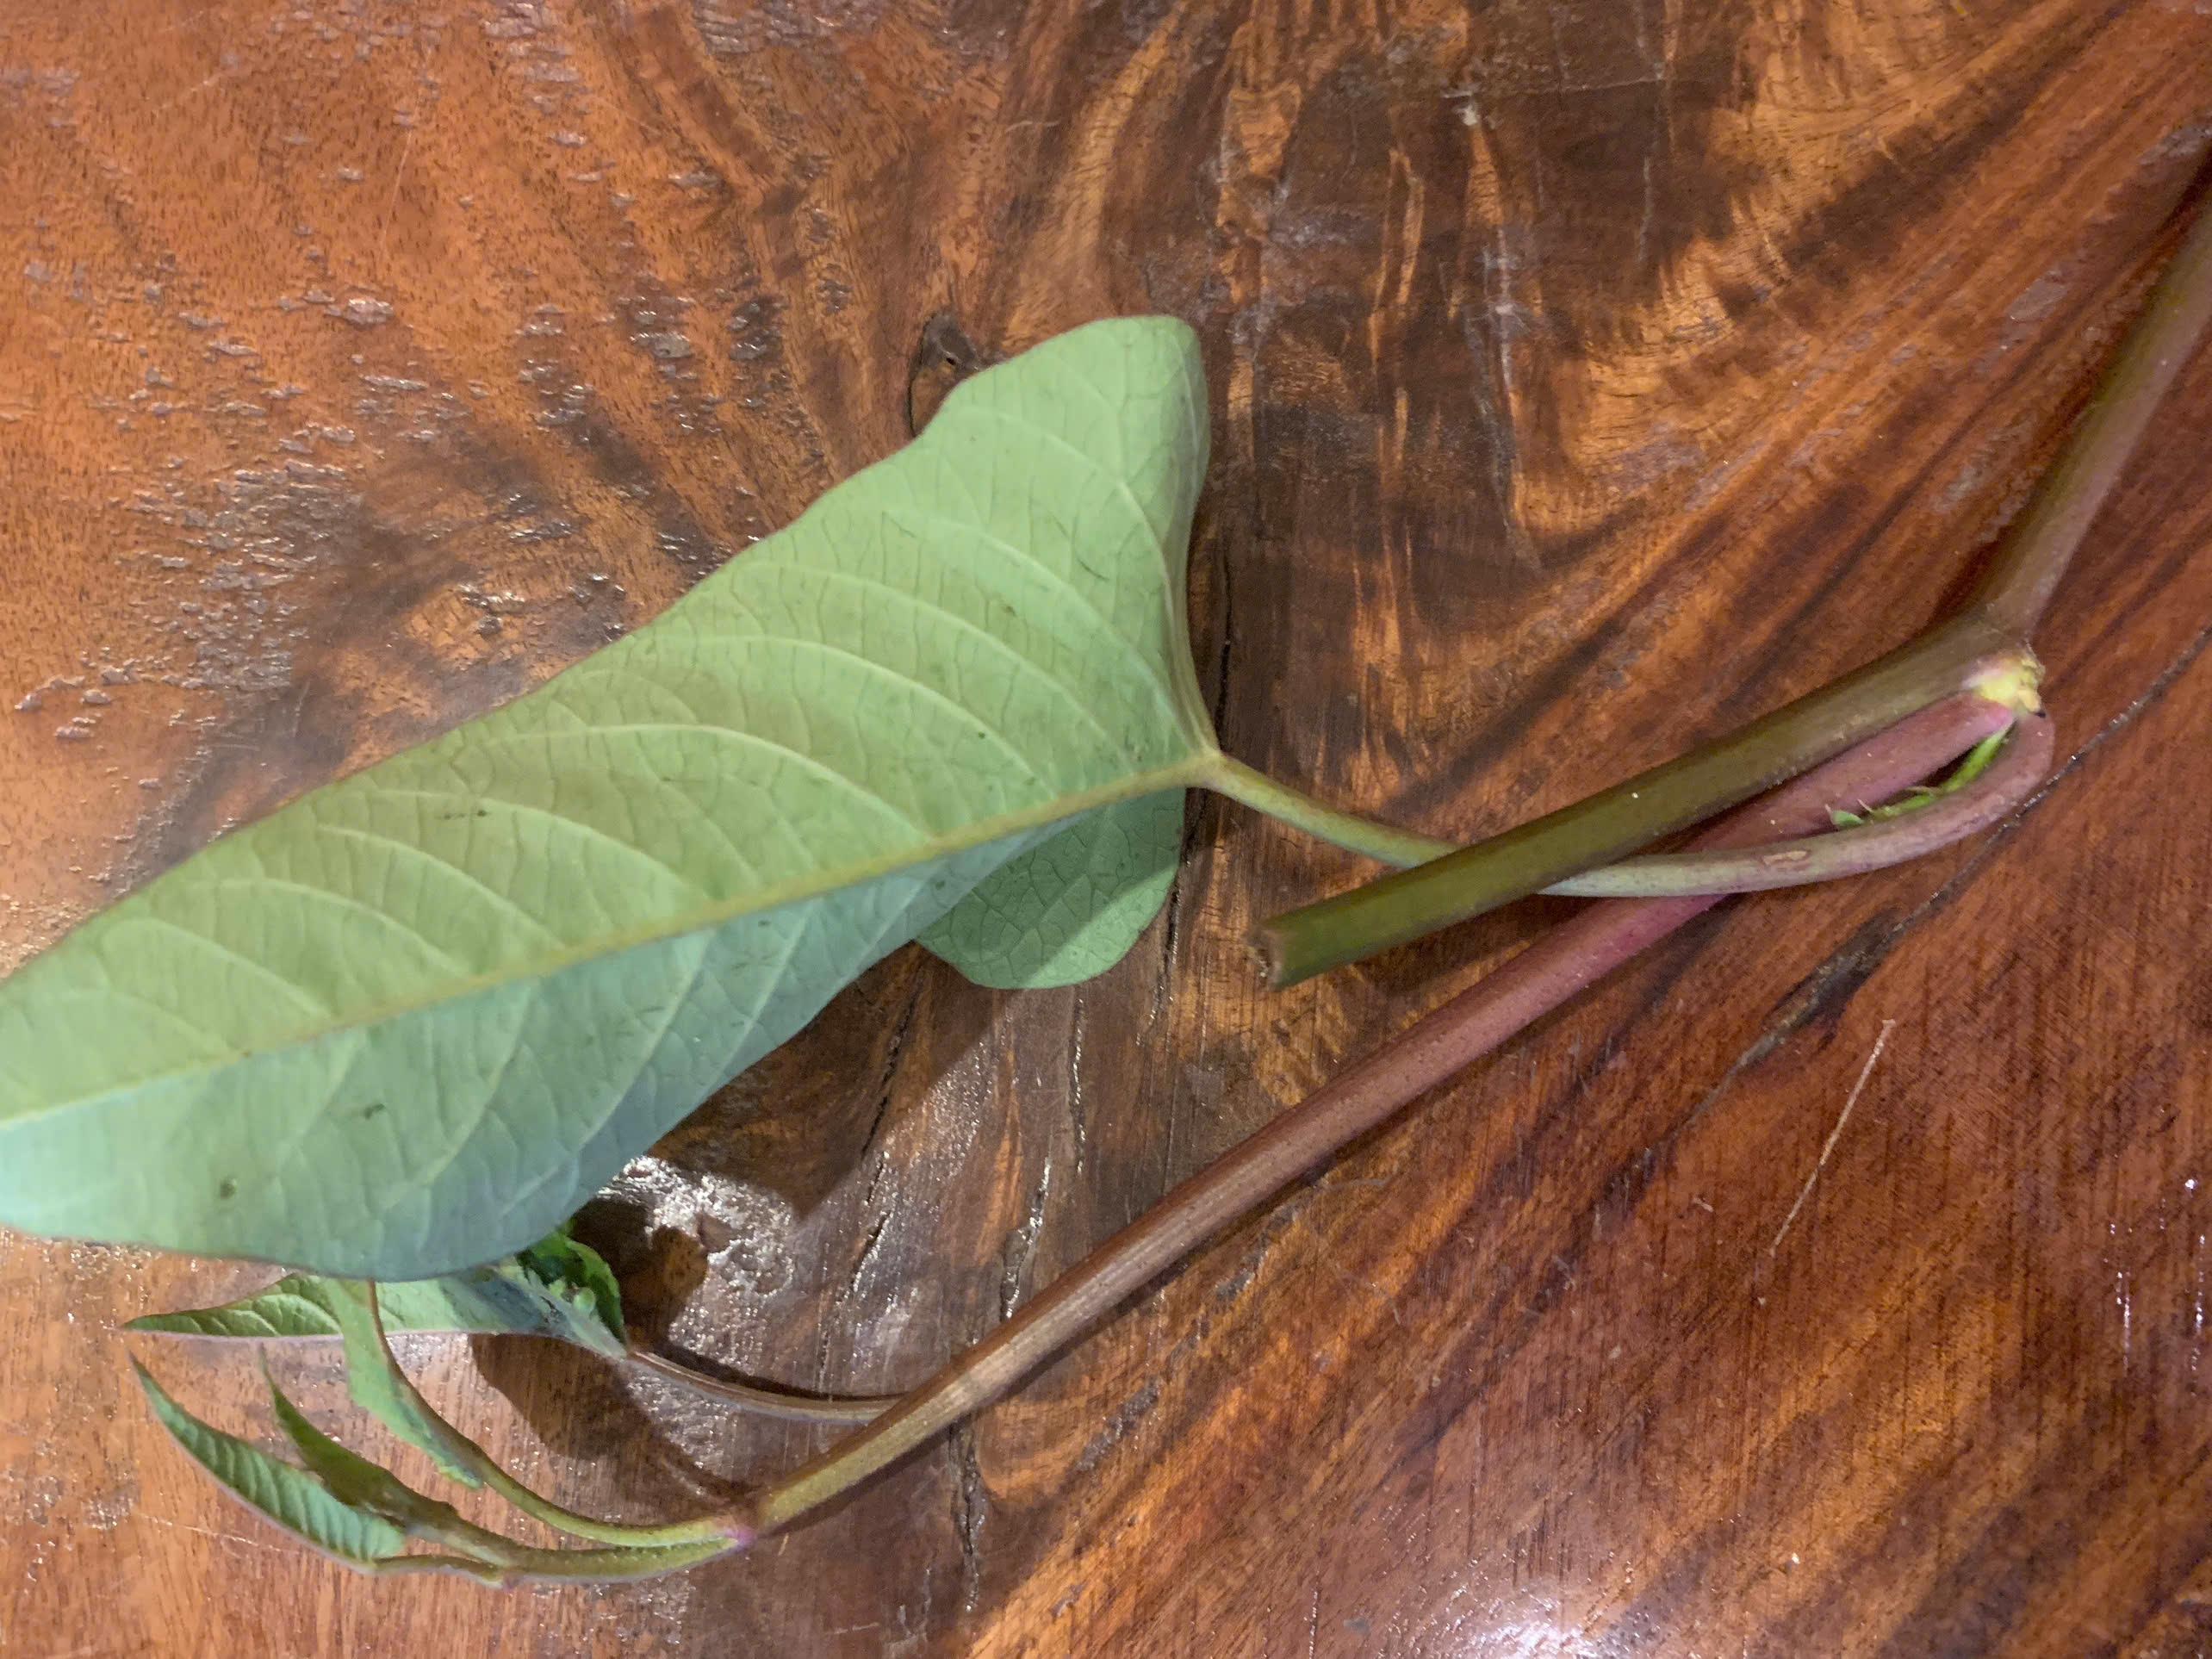Huu co: (14, 331, 2050, 1551)
